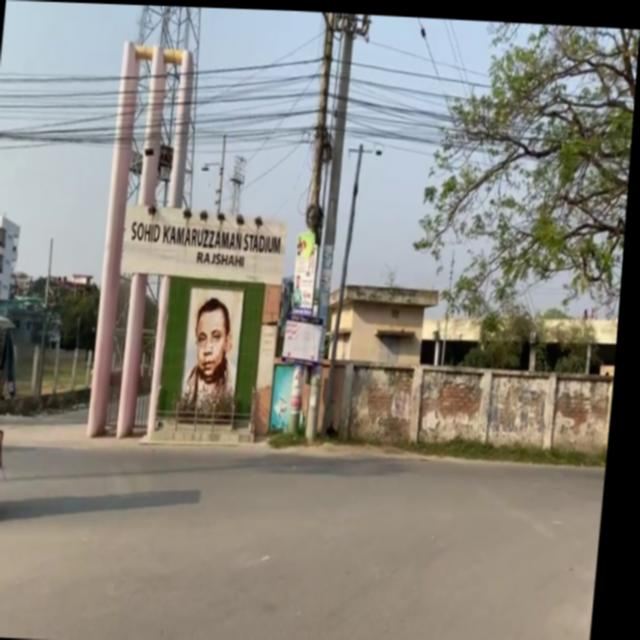Construction-barrier: (0, 424, 612, 509), (143, 428, 612, 467), (144, 404, 263, 447), (143, 430, 274, 448), (160, 406, 258, 424)
Garbage: (148, 272, 274, 444)
Garbage-bin: (187, 293, 247, 410)
Light-pole: (92, 38, 198, 438), (91, 38, 143, 436), (121, 42, 172, 437)
Pothole: (3, 398, 95, 428)
Traffic-cone: (0, 310, 28, 525)
Traffic-light: (330, 355, 618, 452)
